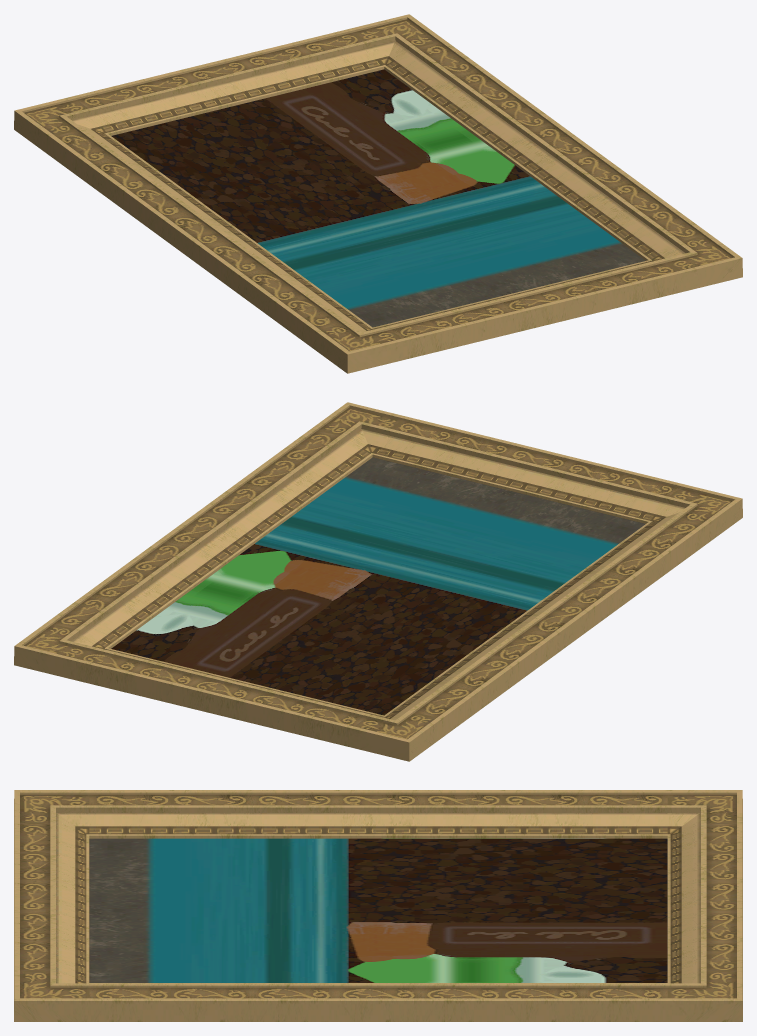
File: art30.fbx
3 renders of one model, top to bottom at view 1: azimuth 30°, elevation 25°; view 2: azimuth 150°, elevation 25°; view 3: azimuth 270°, elevation 25°, orthographic. The views are drawn at different scales.
Parts seen in each view (by area): view 1: FrameGold0_low__mFrameGold0.001, FifePlayer__mBody; view 2: FrameGold0_low__mFrameGold0.001, FifePlayer__mBody; view 3: FrameGold0_low__mFrameGold0.001, FifePlayer__mBody.
Boxes of the visible parts, bbox=[...] form: FrameGold0_low__mFrameGold0.001: bbox=[14, 14, 742, 373]; FifePlayer__mBody: bbox=[111, 69, 645, 327]; FrameGold0_low__mFrameGold0.001: bbox=[14, 402, 742, 761]; FifePlayer__mBody: bbox=[111, 457, 645, 715]; FrameGold0_low__mFrameGold0.001: bbox=[14, 790, 742, 1021]; FifePlayer__mBody: bbox=[89, 838, 667, 982].
Bounding box in the file's own units: 272 × 25.81 × 397.
